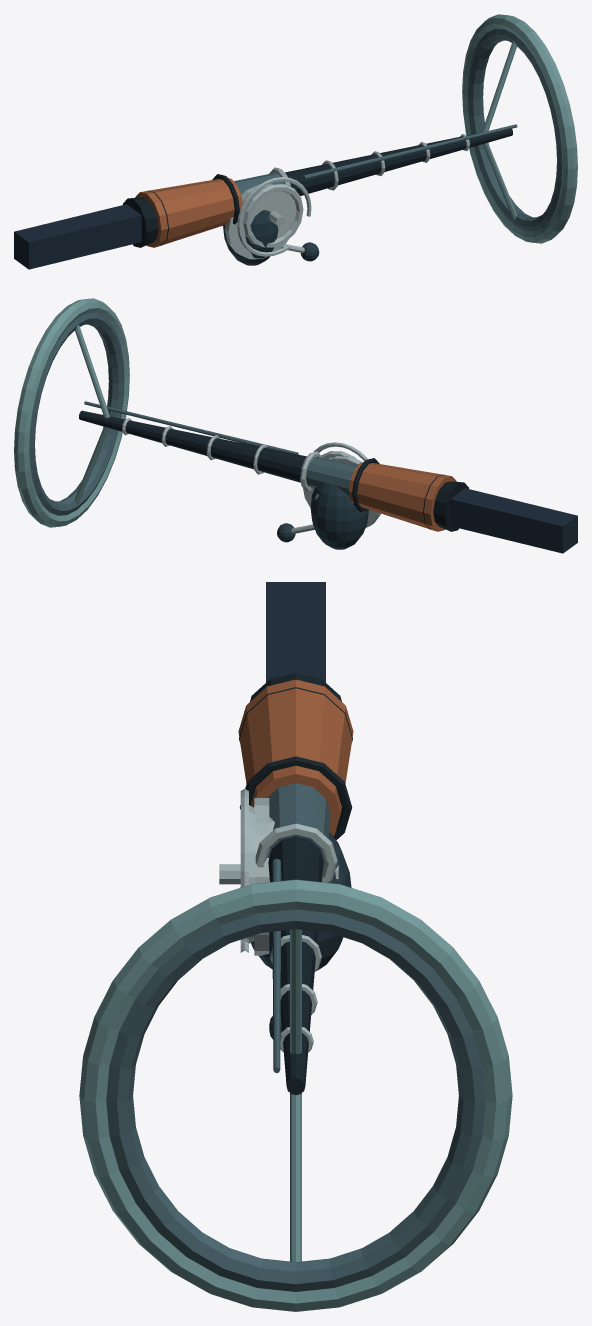
File: fishing-net-faceted.glb
3 renders of one model, top to bottom at view 1: azimuth 30°, elevation 25°; view 2: azimuth 150°, elevation 25°; view 3: azimuth 270°, elevation 25°, orthographic. The views are drawn at different scales.
Visible parts, largest first — view 1: HackRU_Faceted_Fishing_Net, Net_Mouth; view 2: HackRU_Faceted_Fishing_Net, Net_Mouth; view 3: Net_Mouth, HackRU_Faceted_Fishing_Net.
Part boxes in pixels (box(x1,y1,x2,y2)): HackRU_Faceted_Fishing_Net: box(14, 124, 517, 269); Net_Mouth: box(462, 14, 577, 243); HackRU_Faceted_Fishing_Net: box(79, 401, 577, 553); Net_Mouth: box(14, 298, 129, 527); Net_Mouth: box(79, 879, 512, 1311); HackRU_Faceted_Fishing_Net: box(219, 582, 353, 1094).
Bounding box in the file's own units: 2.74 × 1.12 × 1.02.
